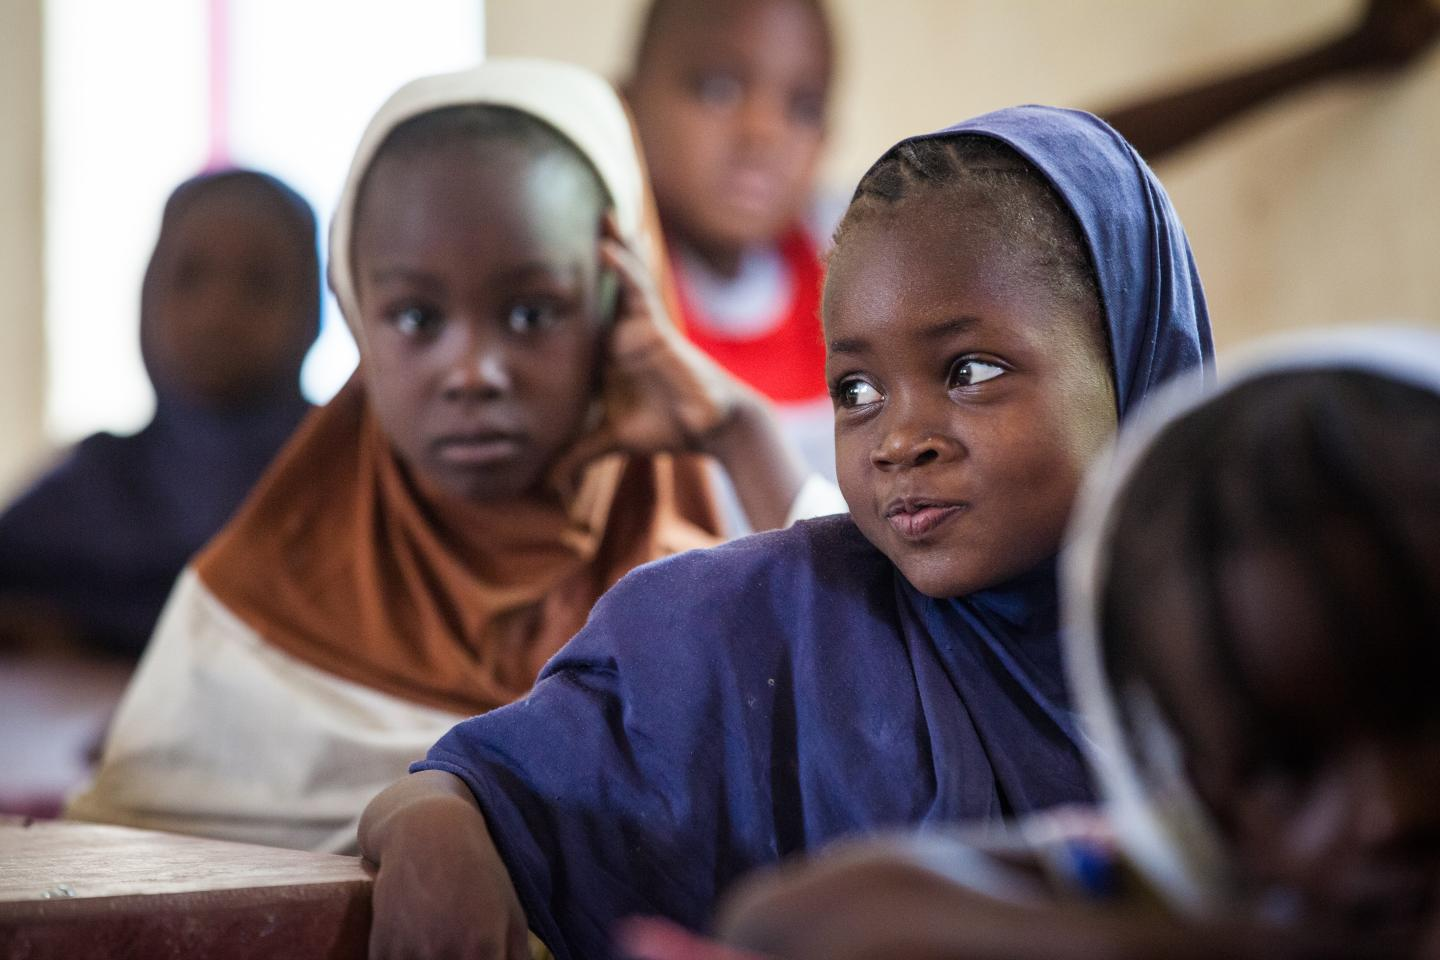human: (348, 89, 1282, 924), (107, 55, 797, 845)
